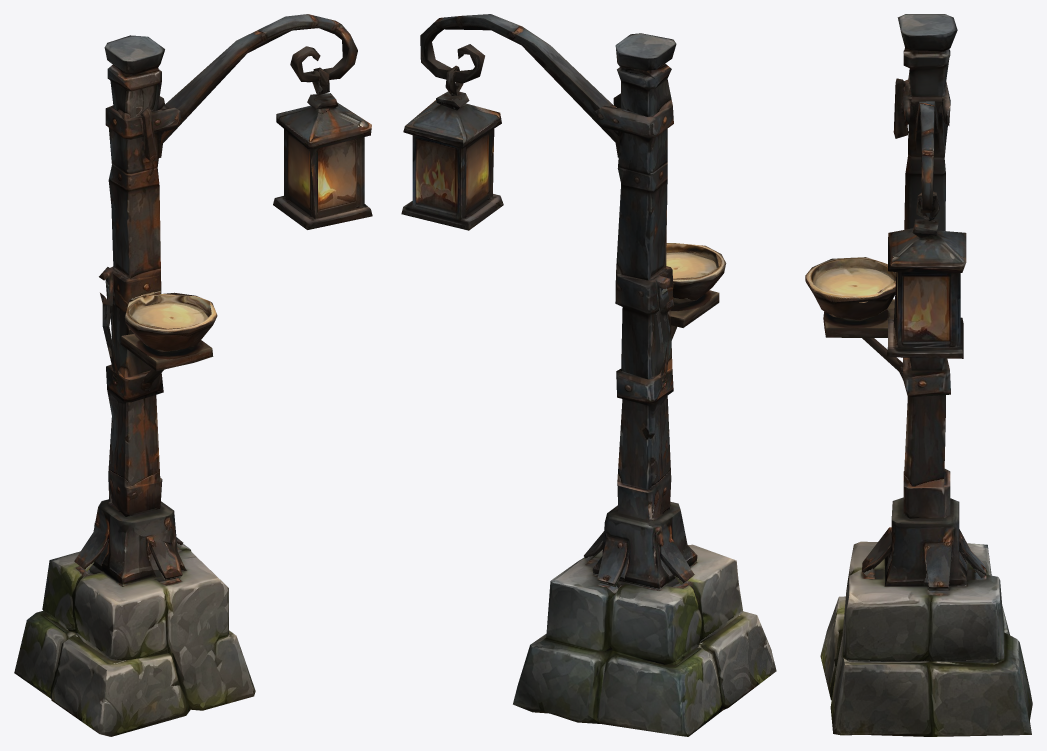
File: act1_extras_v1_sexton_lamp.glb
3 views of the same model, side by side, from view 1: azimuth 30°, elevation 25°; view 2: azimuth 150°, elevation 25°; view 3: azimuth 270°, elevation 25° (orthographic). The views are drawn at different scales.
Visible parts, largest first — view 1: A16_6_sexton_lamp; view 2: A16_6_sexton_lamp; view 3: A16_6_sexton_lamp.
Boxes of the visible parts, left/top/right/bottom form: A16_6_sexton_lamp: left=14, top=14, right=372, bottom=736; A16_6_sexton_lamp: left=401, top=14, right=776, bottom=736; A16_6_sexton_lamp: left=805, top=14, right=1032, bottom=736.
Size of the model in its own units: 0.5015 by 0.9995 by 0.3062.
1 material, 1 textured.
